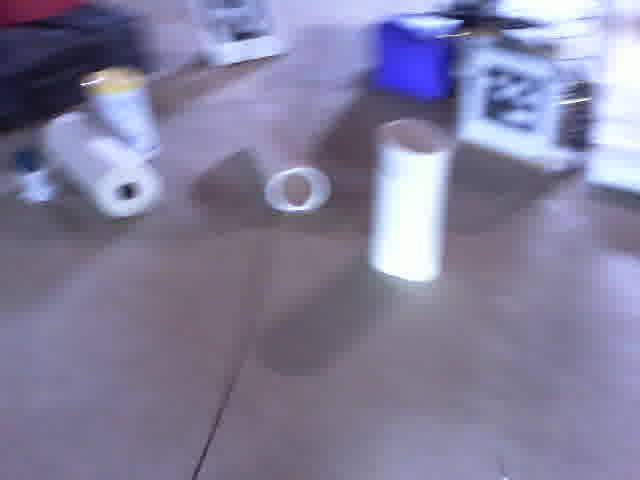coral: (366, 106, 454, 291), (248, 108, 340, 217)
